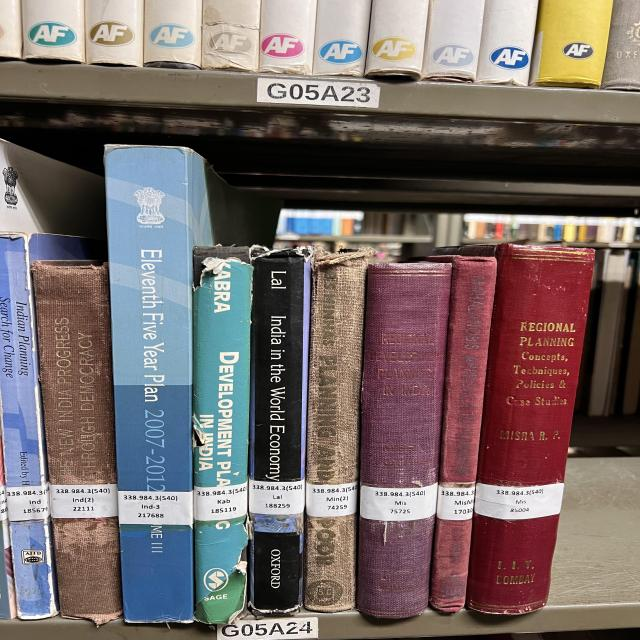Book: (105, 145, 278, 622), (453, 244, 593, 614), (0, 141, 105, 619), (358, 262, 452, 619), (32, 260, 122, 625), (303, 248, 375, 612), (425, 255, 497, 612), (248, 249, 312, 615), (193, 258, 253, 624), (530, 0, 613, 89), (475, 0, 538, 86), (422, 0, 485, 82), (365, 0, 428, 79), (312, 0, 372, 76), (258, 0, 317, 75), (202, 0, 260, 72), (143, 0, 202, 69), (22, 0, 85, 62), (85, 0, 143, 66), (600, 0, 640, 90)
Label: (473, 482, 563, 520), (360, 482, 438, 521), (118, 490, 193, 525), (50, 484, 118, 519), (193, 482, 247, 521), (248, 480, 305, 515), (305, 481, 358, 518), (7, 484, 50, 521), (437, 485, 475, 520)
